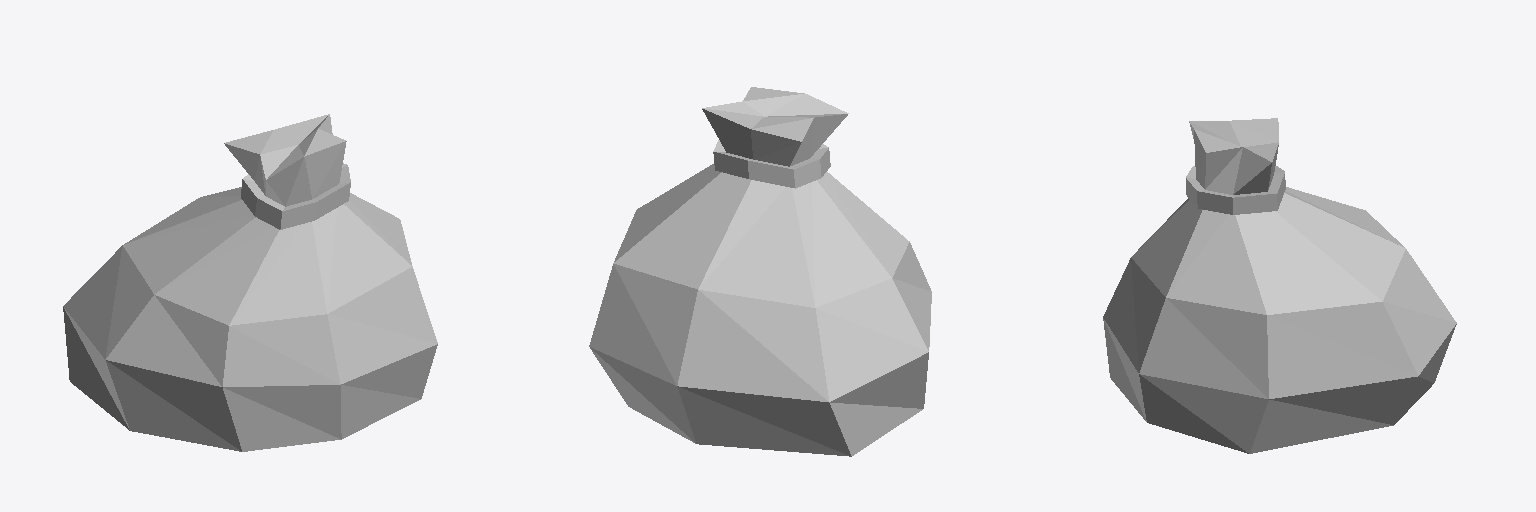
The model's file is misc08.obj.
3 renders of one model, left to right at view 1: azimuth 30°, elevation 25°; view 2: azimuth 150°, elevation 25°; view 3: azimuth 270°, elevation 25°, orthographic.
Parts seen in each view (by area): view 1: misc08; view 2: misc08; view 3: misc08.
Boxes of the visible parts, <box> form: misc08: <box>63,114,437,451</box>; misc08: <box>589,87,931,456</box>; misc08: <box>1103,118,1456,453</box>.
Bounding box in the file's own units: 0.0142 × 0.0114 × 0.014.